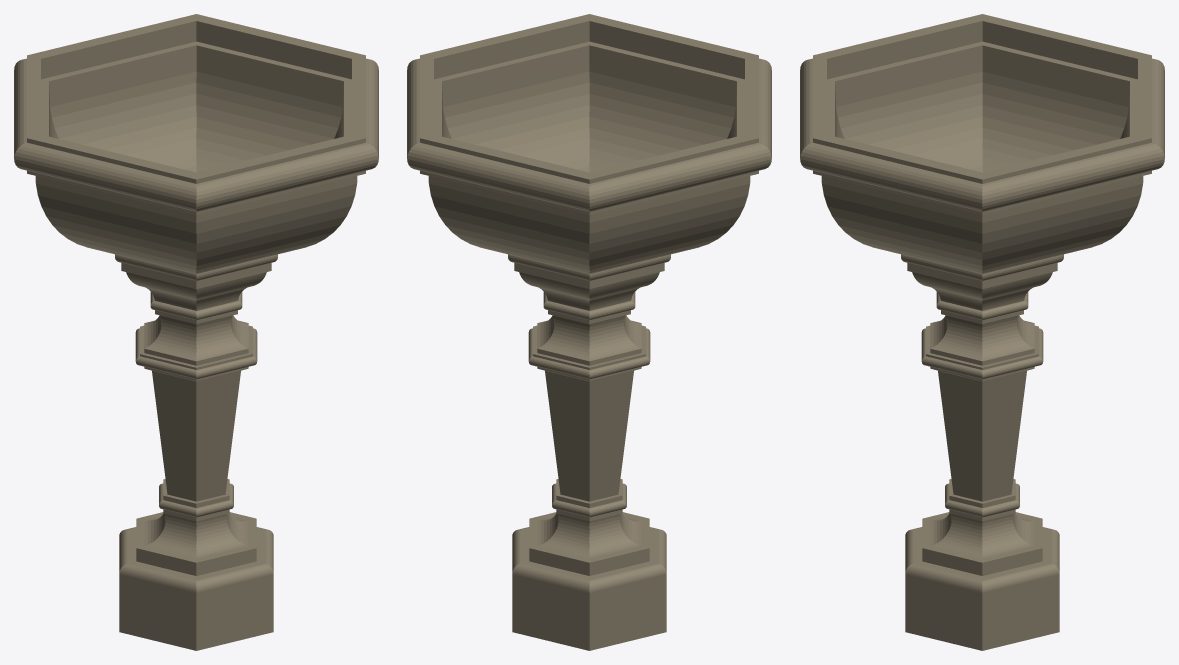
File: Bebedero.obj
The picture shows the model from 3 angles, left to right: view 1: azimuth 30°, elevation 25°; view 2: azimuth 150°, elevation 25°; view 3: azimuth 270°, elevation 25°; orthographic projection.
Visible parts, largest first — view 1: G___555573; view 2: G___555573; view 3: G___555573.
Boxes of the visible parts, box(x1,y1,x2,y2) form: G___555573: box(14, 14, 378, 650); G___555573: box(407, 14, 771, 650); G___555573: box(800, 14, 1164, 650).
Size of the model in its own units: 2.8 by 3.78 by 2.42.
